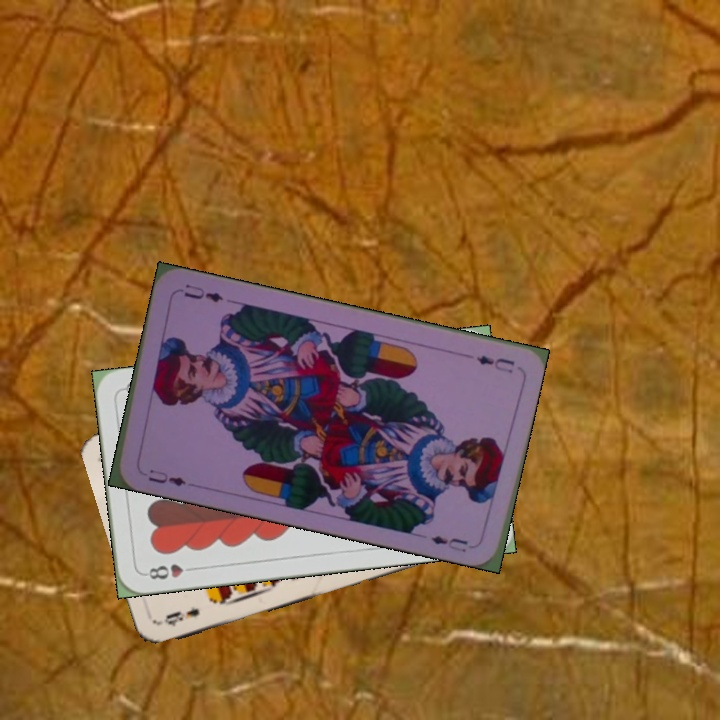E9: (160, 603, 202, 630)
EU: (144, 465, 189, 489), (472, 351, 517, 375)
H8: (140, 560, 199, 582)
